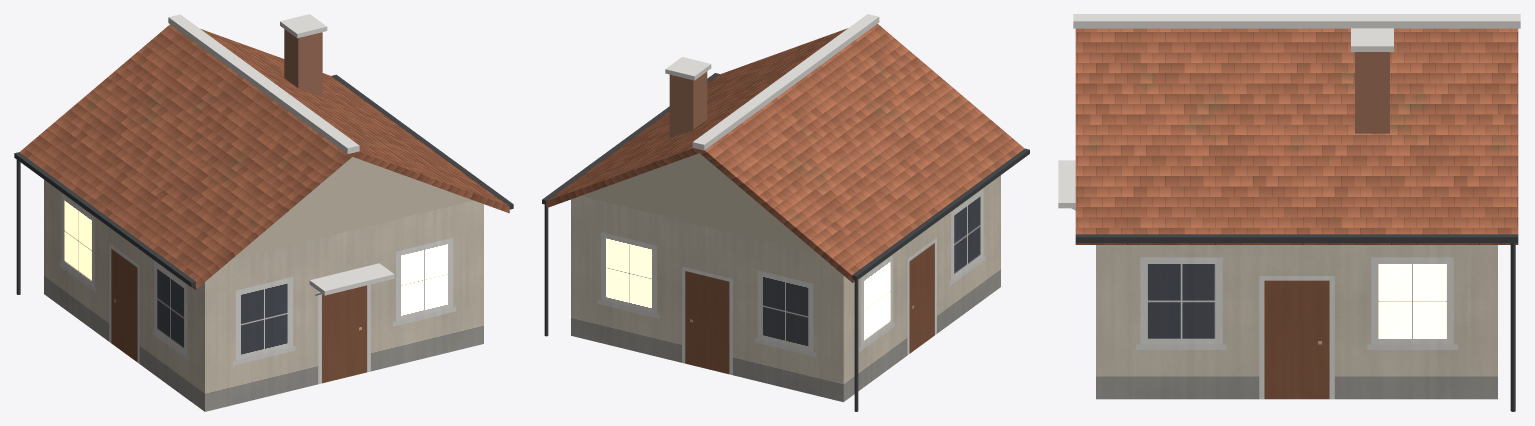
The model's file is small_house.glb.
3 renders of one model, left to right at view 1: azimuth 30°, elevation 25°; view 2: azimuth 150°, elevation 25°; view 3: azimuth 270°, elevation 25°, orthographic. The views are drawn at different scales.
Parts seen in each view (by area): view 1: SmallHouse_Intact; view 2: SmallHouse_Intact; view 3: SmallHouse_Intact.
Boxes of the visible parts, x1=… form: SmallHouse_Intact: x1=14, y1=14, x2=513, y2=411; SmallHouse_Intact: x1=542, y1=14, x2=1029, y2=411; SmallHouse_Intact: x1=1058, y1=14, x2=1520, y2=411.
Bounding box in the file's own units: 9.24 × 7.01 × 9.2.
6 materials, 2 textured.
